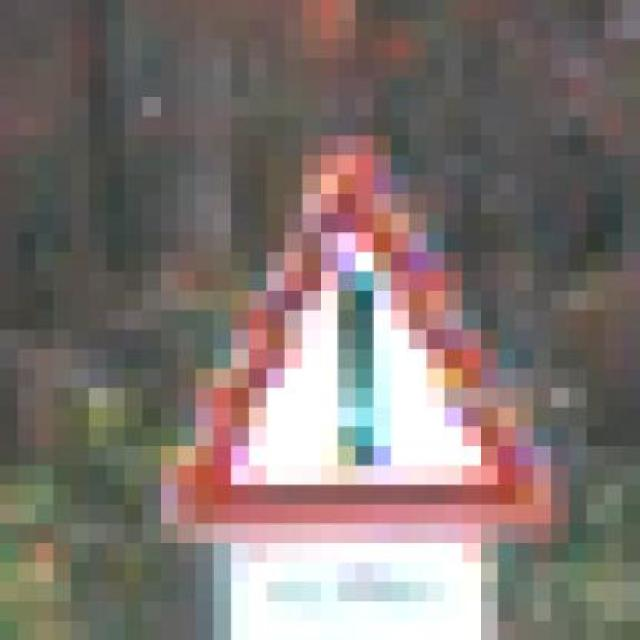Attention Please-: (142, 97, 569, 543)
